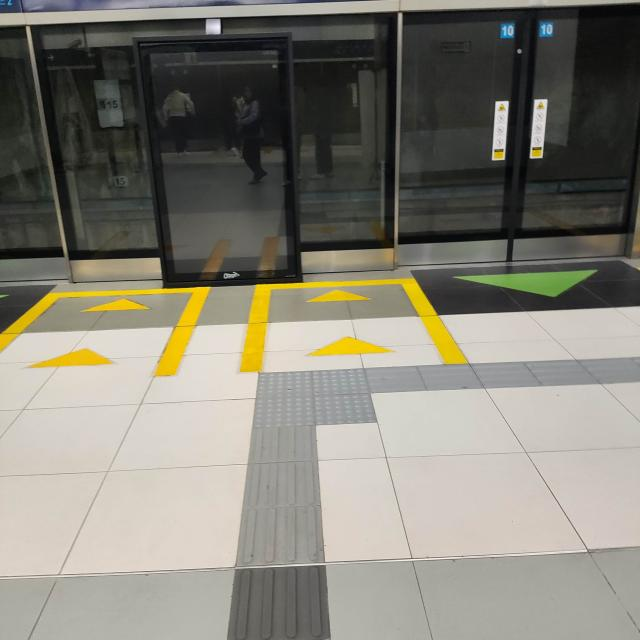kanan: (227, 341, 471, 450)
